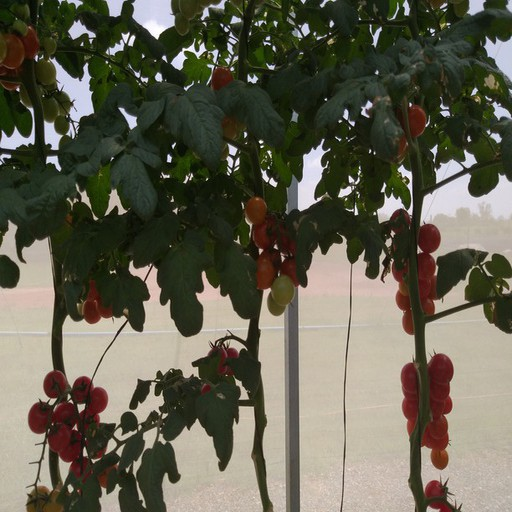green tomato bunch: (1, 3, 71, 136), (167, 1, 225, 35)
mixed tomato bunch: (248, 198, 312, 314), (206, 69, 259, 165)
red tomato bunch: (29, 372, 120, 486), (392, 210, 440, 335), (402, 354, 452, 464), (66, 260, 133, 320), (194, 345, 239, 396)
